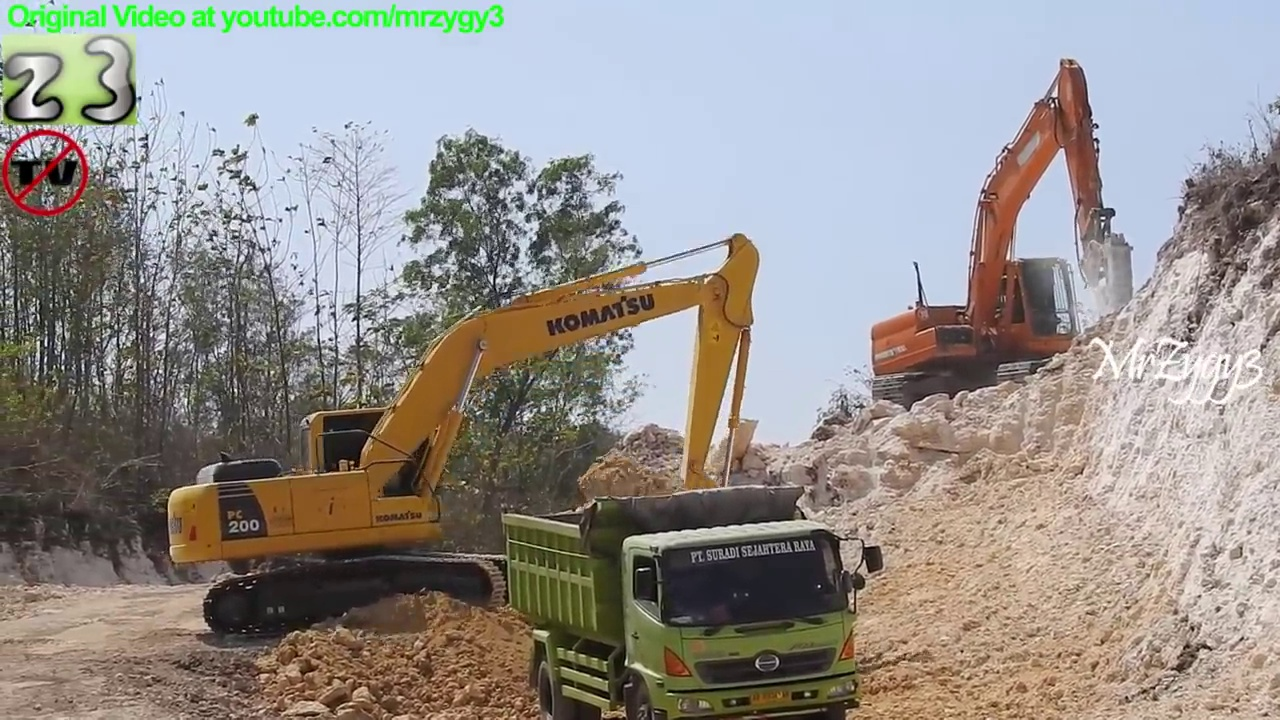excavator: (161, 230, 768, 648), (864, 52, 1144, 426)
truck: (496, 479, 891, 720)
